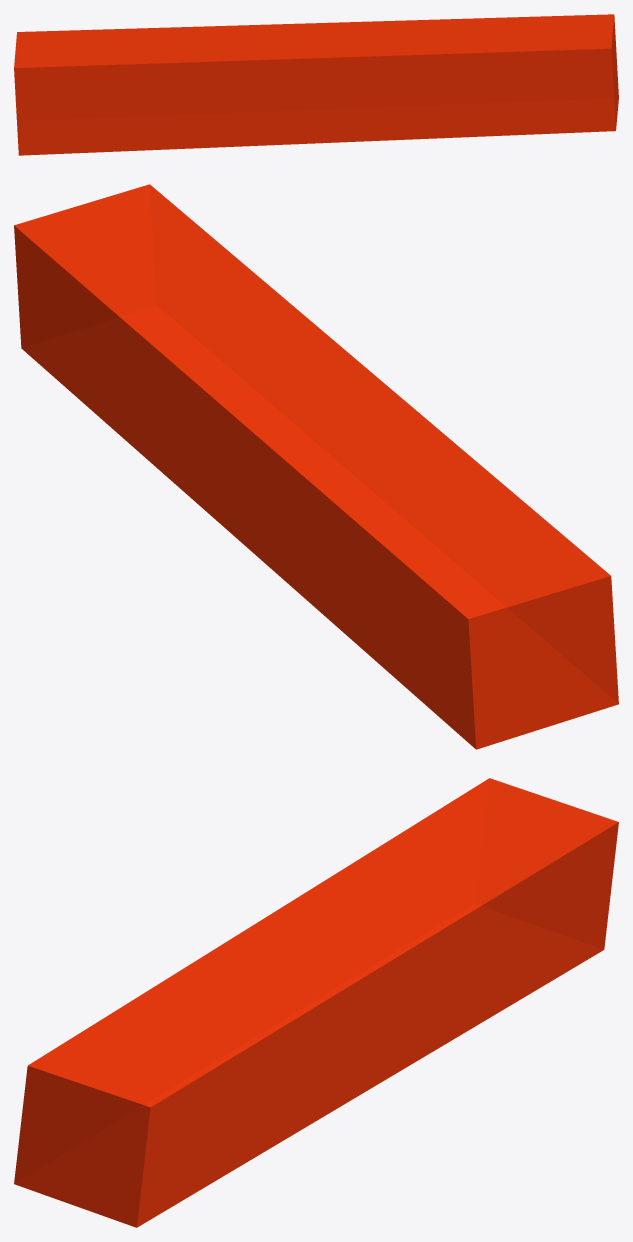
Rendered from Event_421556567_EBrechit_2.fbx.
3 views of the same model, one above another, from view 1: azimuth 30°, elevation 25°; view 2: azimuth 150°, elevation 25°; view 3: azimuth 270°, elevation 25° (orthographic). The views are drawn at different scales.
Visible parts, largest first — view 1: Model; view 2: Model; view 3: Model.
Part boxes in pixels (left/top/right/bottom): Model: left=14, top=14, right=618, bottom=155; Model: left=14, top=184, right=618, bottom=749; Model: left=14, top=778, right=618, bottom=1227.
Bounding box in the file's own units: 0.3545 × 0.0809 × 0.2545.
